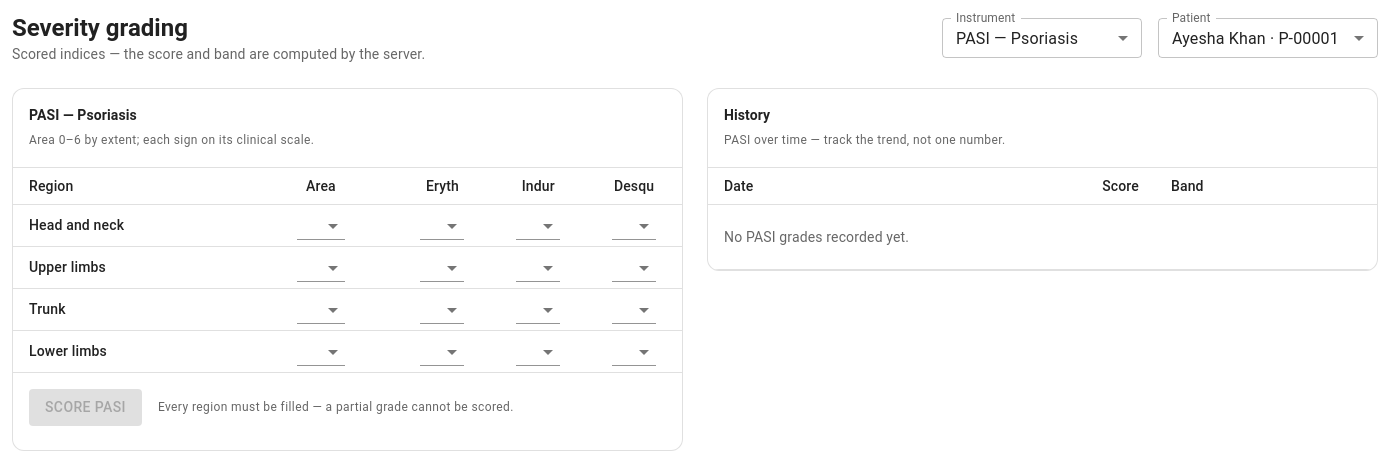
Test: the grade grid says which region and which sign it is grading › renames the grid when the instrument changes, instead of keeping PASI’s signs
expect the dropdown named "Head and neck — area" is shown: met, box [297, 211, 345, 240]
Click the dropdown named "Instrument" at [1017, 38], box [956, 28, 1078, 48]
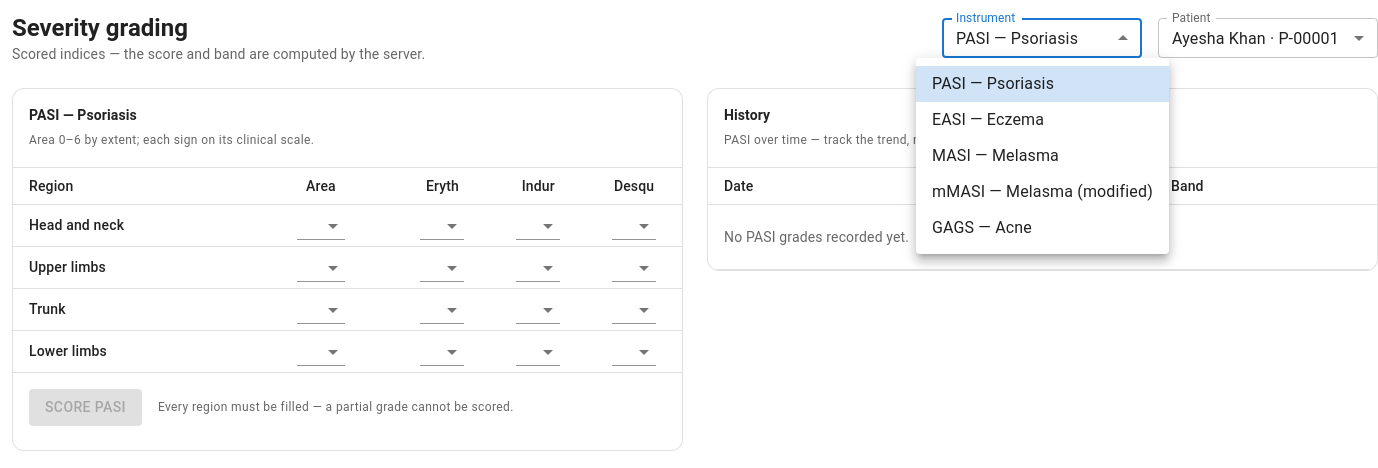
Click the option "mMASI — Melasma (modified)" at [1042, 192], box [932, 182, 1153, 201]
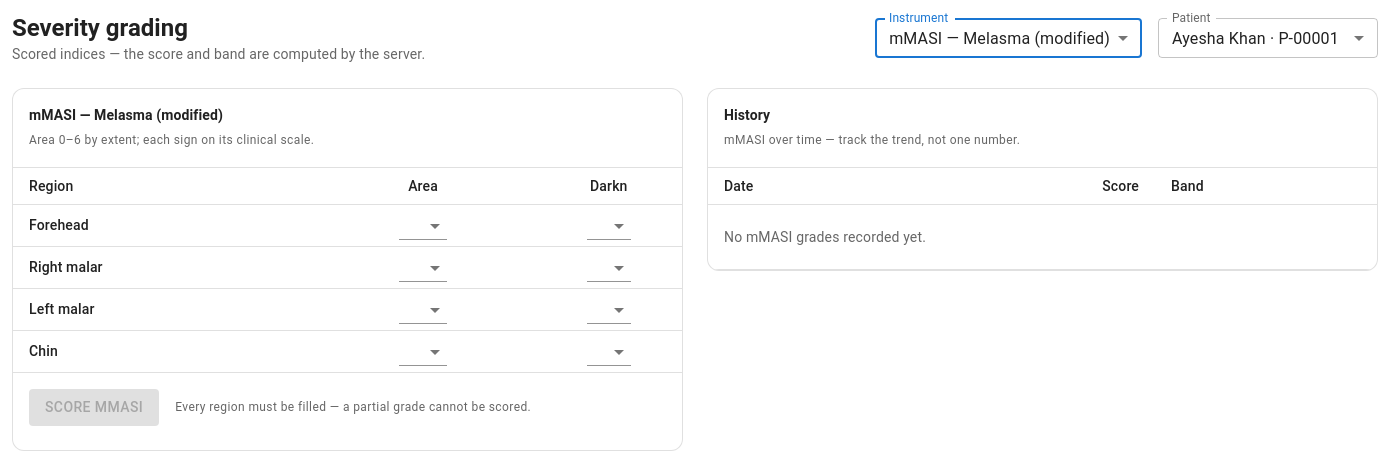
expect the list is gone: met
expect the dropdown named "Forehead — Darkness" is shown: met, box [587, 211, 631, 240]
expect the dropdown named "Chin — area" is shown: met, box [399, 337, 447, 366]
